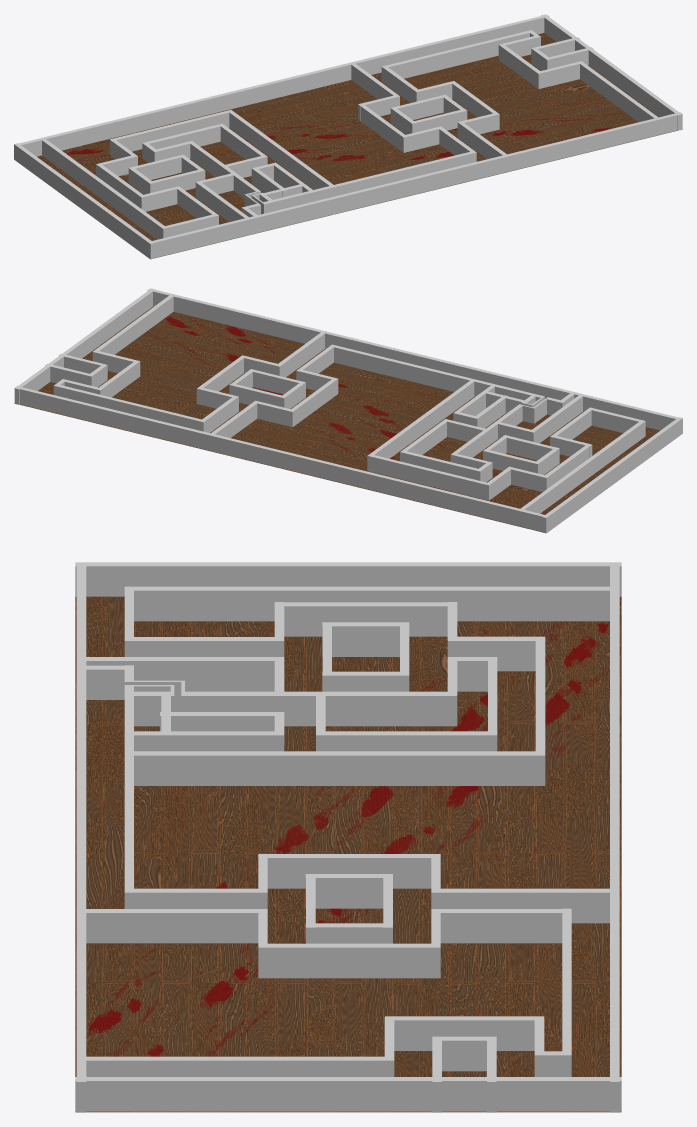
The model's file is Corridor.fbx.
The picture shows the model from 3 angles, top to bottom: view 1: azimuth 30°, elevation 25°; view 2: azimuth 150°, elevation 25°; view 3: azimuth 270°, elevation 25°; orthographic projection. The views are drawn at different scales.
Visible parts, largest first — view 1: Plane, Wall_E, Wall_W, Wall_S, M_W2.006, Wall_S.001, Wall_N, M_W4.002, M_W4.030, M_W4.027, M_W1, M_W4.028 (+34 smaller); view 2: Plane, Wall_W, Wall_E, M_W2.006, Wall_S, Wall_N, Wall_S.001, M_W4.027, M_W4.030, M_W4.002, M_W1, M_W4.024 (+34 smaller); view 3: Plane, Wall_N, M_W4.030, Wall_S.001, Wall_S, M_W4.008, M_W1, M_W4.018, M_W2.005, Wall_E, Wall_W, M_W4.024 (+24 smaller).
Part boxes in pixels (x1,y1,x2,y2): Plane: (37, 33, 682, 258); Wall_E: (148, 112, 682, 257); Wall_W: (16, 14, 549, 156); Wall_S: (14, 143, 154, 259); M_W2.006: (262, 151, 474, 213); Wall_S.001: (40, 137, 166, 239); Wall_N: (541, 14, 681, 130); M_W4.002: (381, 30, 533, 83); M_W4.030: (229, 111, 335, 189); M_W4.027: (110, 110, 232, 151); M_W1: (578, 61, 658, 121); M_W4.028: (142, 123, 224, 159); Plane: (14, 307, 659, 532); Wall_W: (14, 386, 548, 531); Wall_E: (147, 288, 681, 430); M_W2.006: (333, 345, 544, 401); Wall_S: (542, 417, 682, 533); Wall_N: (15, 288, 155, 404); Wall_S.001: (519, 420, 645, 513); M_W4.027: (367, 454, 490, 500); M_W4.030: (368, 379, 474, 458); M_W4.002: (54, 384, 206, 431); M_W1: (93, 295, 173, 354); M_W4.024: (529, 395, 582, 443); Plane: (75, 596, 621, 1112); Wall_N: (75, 1077, 621, 1111); M_W4.030: (134, 751, 544, 785); Wall_S.001: (125, 586, 619, 621); Wall_S: (75, 562, 621, 596); M_W4.008: (258, 943, 439, 978); M_W1: (86, 1056, 393, 1076); M_W4.018: (275, 691, 456, 726); M_W2.005: (86, 909, 267, 943); Wall_E: (76, 562, 86, 1112); Wall_W: (610, 562, 619, 1112); M_W4.024: (86, 657, 283, 691).
Bounding box in the file's own units: 18013 × 500 × 8000.
